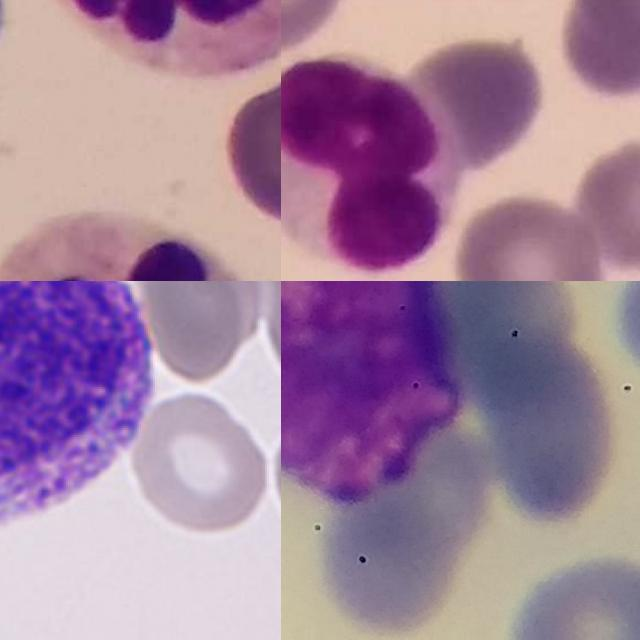Basophil: (281, 281, 469, 507)
Lymphocyte: (0, 281, 167, 550), (281, 51, 465, 272)
Neutrophil: (0, 208, 272, 281), (56, 0, 281, 78)
RBC: (126, 385, 276, 538), (137, 281, 251, 383), (260, 281, 281, 396), (268, 408, 281, 545), (263, 598, 281, 640)
